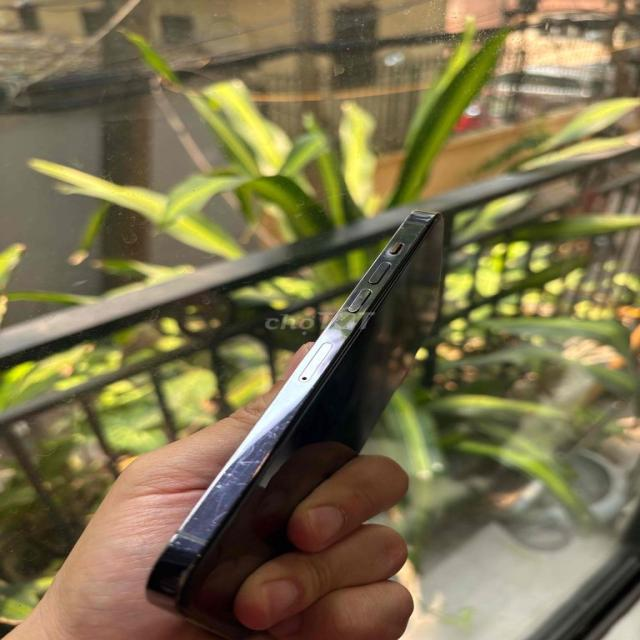gen_14: (148, 212, 442, 639)
